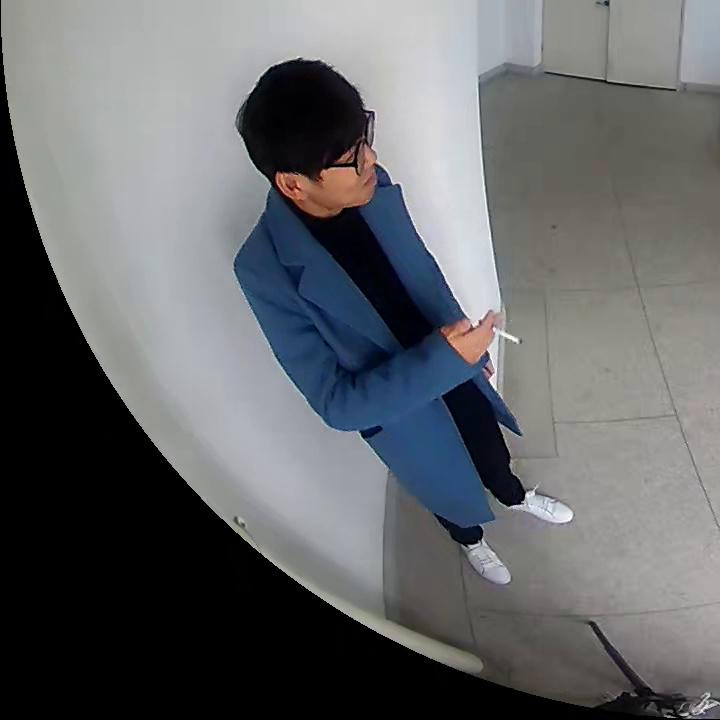handsmoke: (463, 309, 521, 351)
mouthwithoutsmoke: (236, 58, 378, 207)
